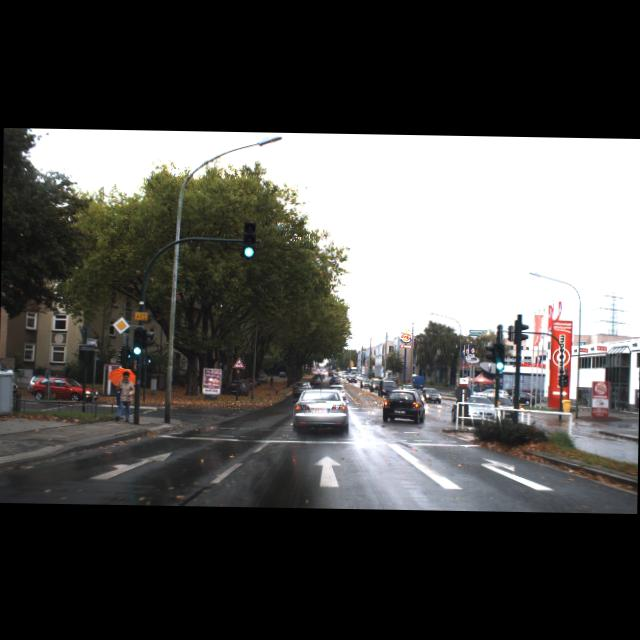danger: (233, 356, 246, 367)
other: (112, 316, 130, 334)
